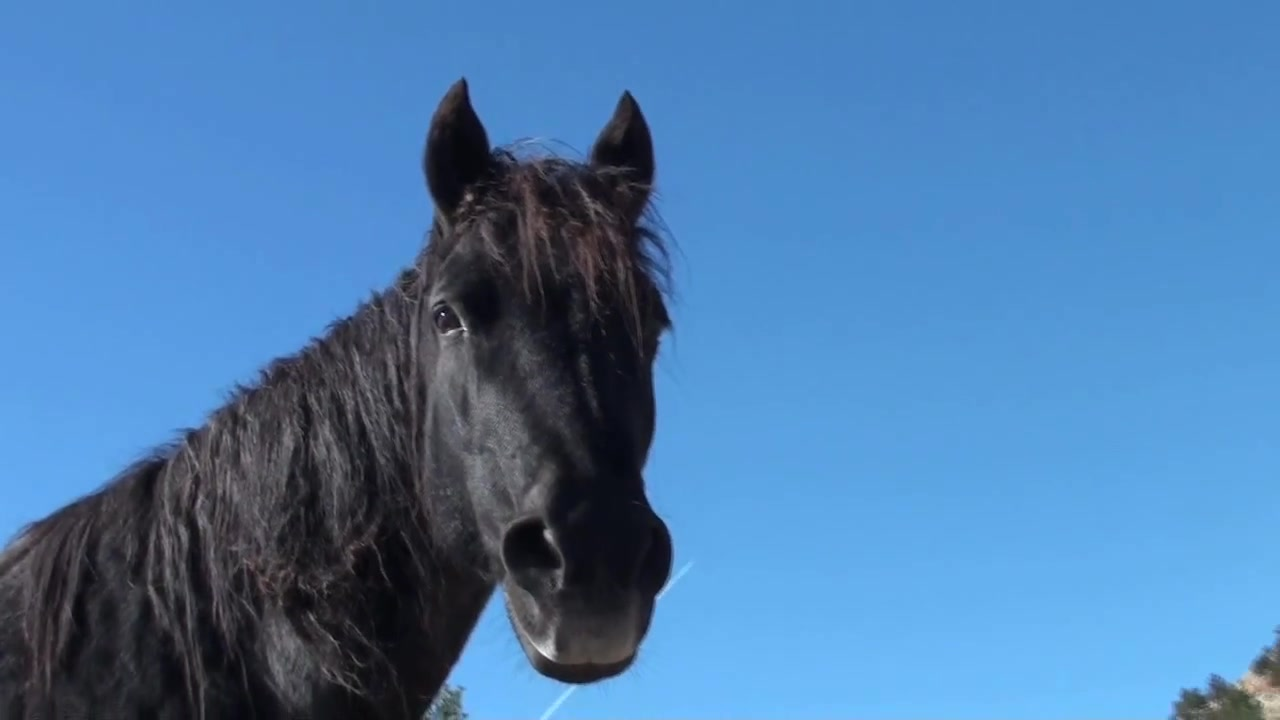horse: (1, 74, 694, 720)
